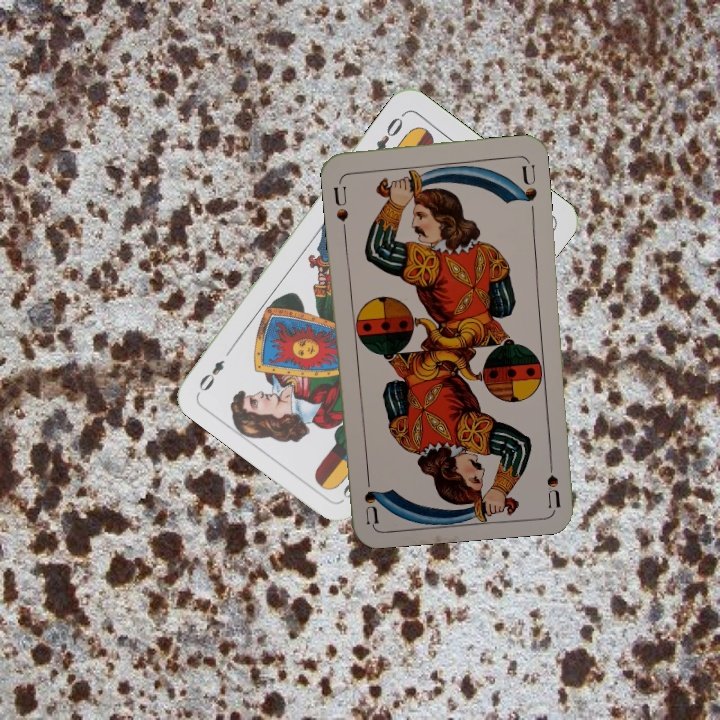EO: (371, 113, 406, 155)
SU: (542, 448, 563, 508), (329, 175, 351, 224)
